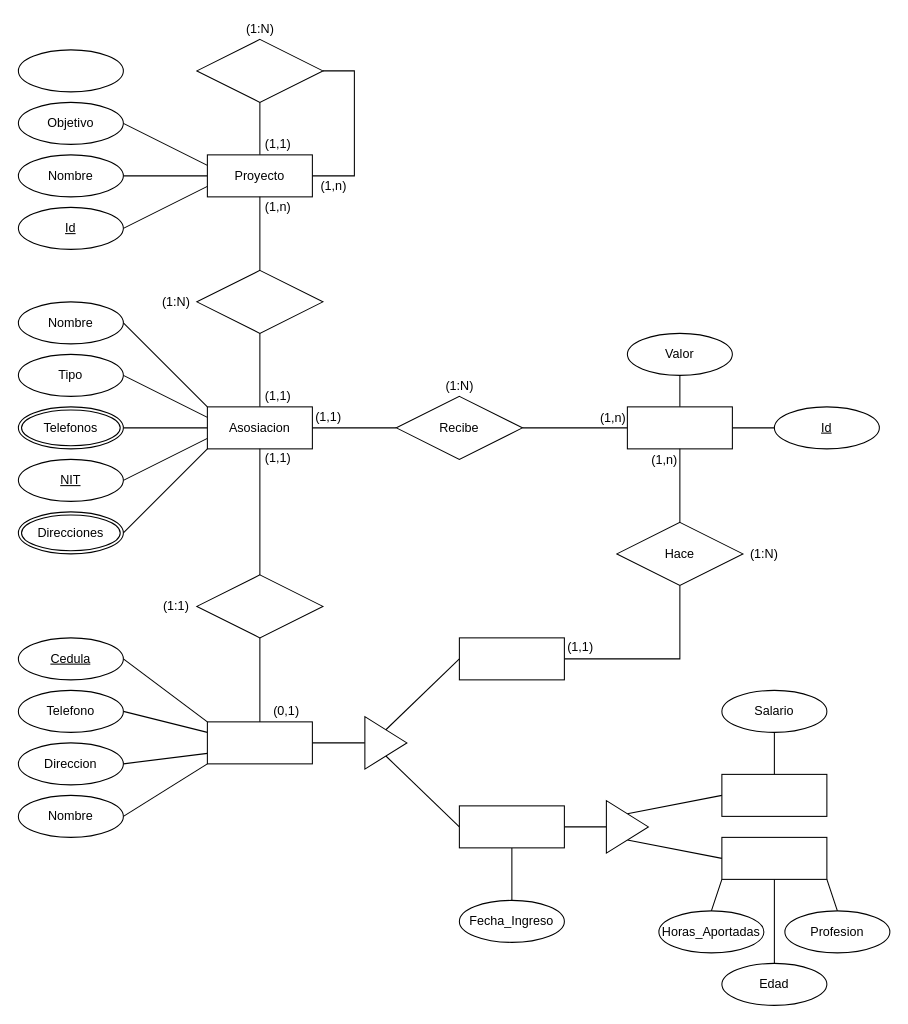
Image size: 908x1024. Some labels were removed from this diagram. Here are the shapes that lost their labels. From the top down, the box of each, then its label:
(17, 49, 123, 92): Pais
(196, 38, 323, 102): Hace_Parte
(196, 269, 323, 333): Tiene
(626, 406, 732, 449): Aporte
(196, 574, 323, 638): Trabaja
(458, 637, 564, 680): Socio
(206, 721, 312, 764): Participante
(721, 773, 827, 816): Asalariado
(458, 805, 564, 848): Trabajador
(721, 836, 827, 879): Voluntario
